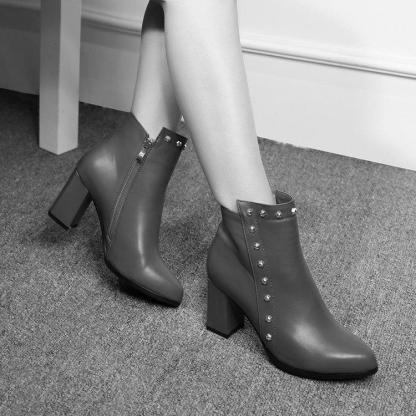ankle: (146, 142, 150, 147), (243, 230, 247, 235)
heel: (211, 271, 215, 276), (80, 164, 83, 170)
left_foot: (49, 139, 185, 309)
pinky: (322, 367, 327, 372), (174, 280, 177, 282)
right_foot: (207, 208, 379, 382)
toe: (370, 354, 374, 360), (162, 294, 166, 297)
